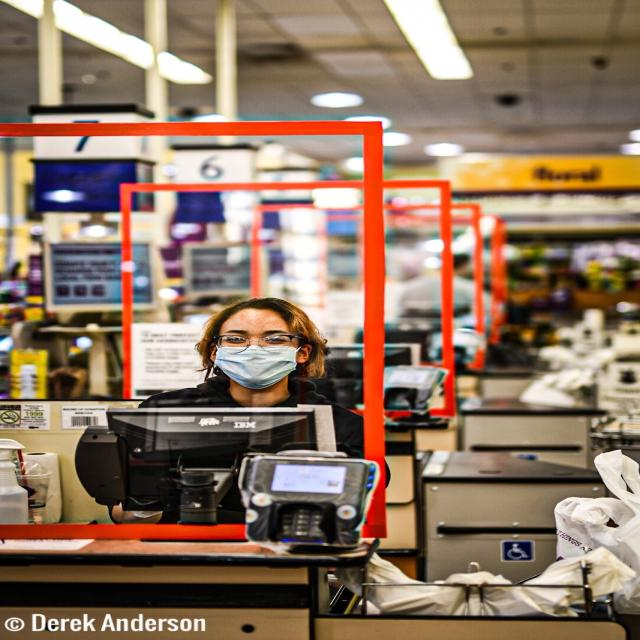Mask: (212, 346, 296, 389)
